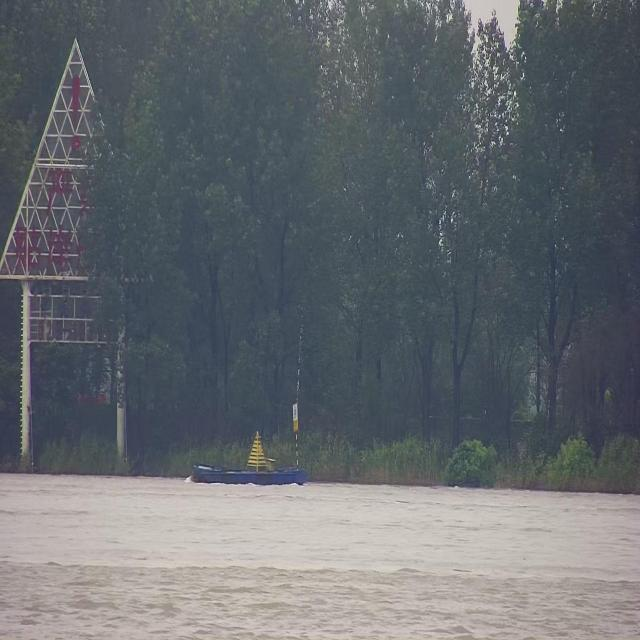CIV_Ship: (186, 426, 309, 487)
